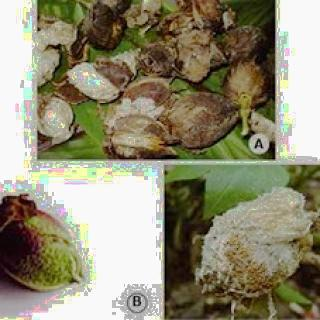leaf spot: (38, 3, 272, 157), (170, 170, 319, 314), (1, 185, 83, 291)
